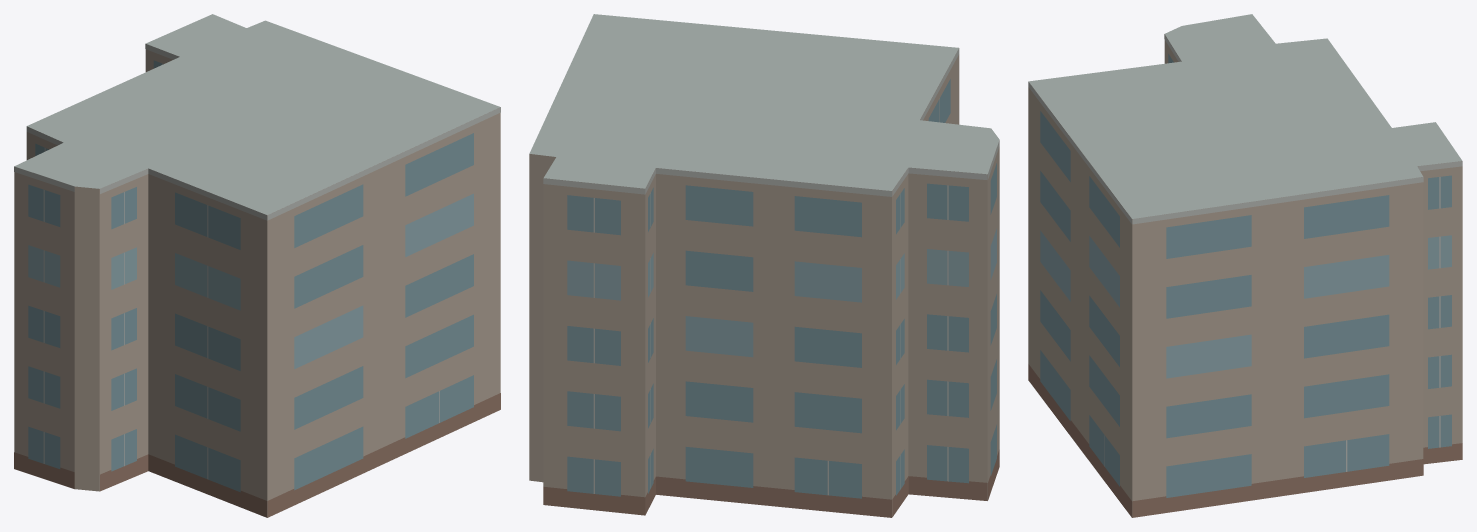
File: survey-upis-32976036.glb
3 renders of one model, left to right at view 1: azimuth 30°, elevation 25°; view 2: azimuth 150°, elevation 25°; view 3: azimuth 270°, elevation 25°, orthographic. The views are drawn at different scales.
Parts seen in each view (by area): view 1: survey-upis-32976036.tmp; view 2: survey-upis-32976036.tmp; view 3: survey-upis-32976036.tmp.
Boxes of the visible parts, box(x1,y1,x2,y2) form: survey-upis-32976036.tmp: box(14, 14, 500, 517); survey-upis-32976036.tmp: box(529, 14, 999, 517); survey-upis-32976036.tmp: box(1028, 14, 1462, 517).
Size of the model in its own units: 19.81 by 13.45 by 17.72.
